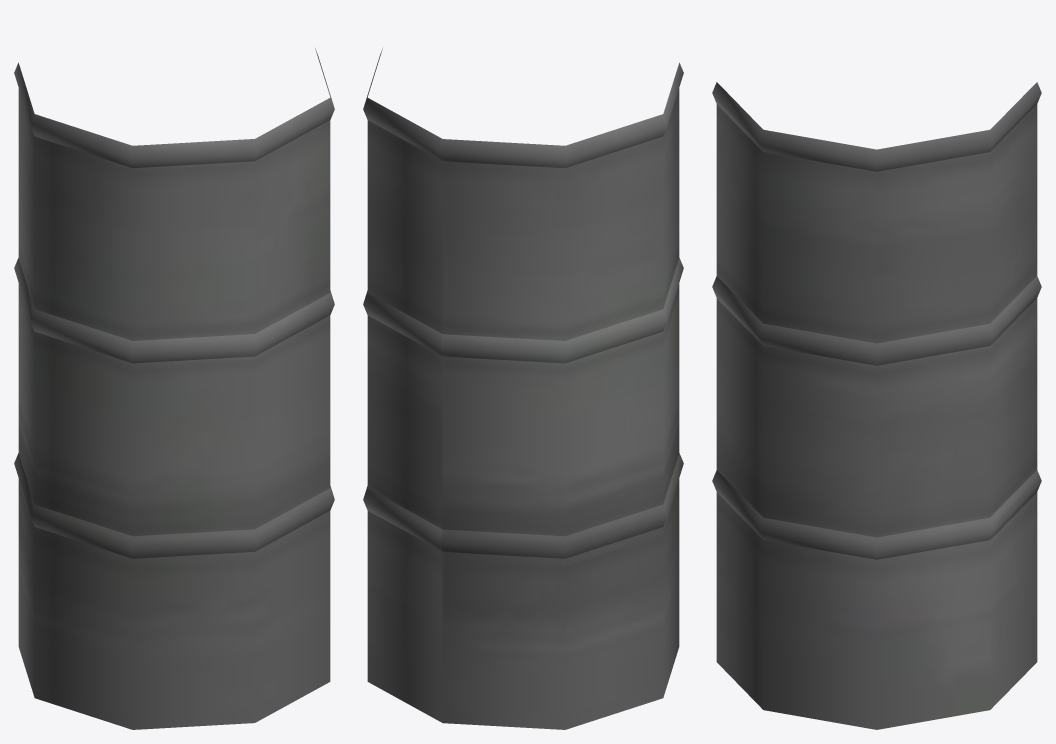
3 renders of one model, left to right at view 1: azimuth 30°, elevation 25°; view 2: azimuth 150°, elevation 25°; view 3: azimuth 270°, elevation 25°, orthographic.
Visible parts, largest first — view 1: body0_model0_lod0_mesh0; view 2: body0_model0_lod0_mesh0; view 3: body0_model0_lod0_mesh0.
Boxes of the visible parts, x1,y1,x2,y2 form: body0_model0_lod0_mesh0: (14,48,334,729); body0_model0_lod0_mesh0: (363,48,683,729); body0_model0_lod0_mesh0: (712,82,1041,729).
Bounding box in the file's own units: 16.49 × 32 × 16.47.
1 material, 1 textured.
